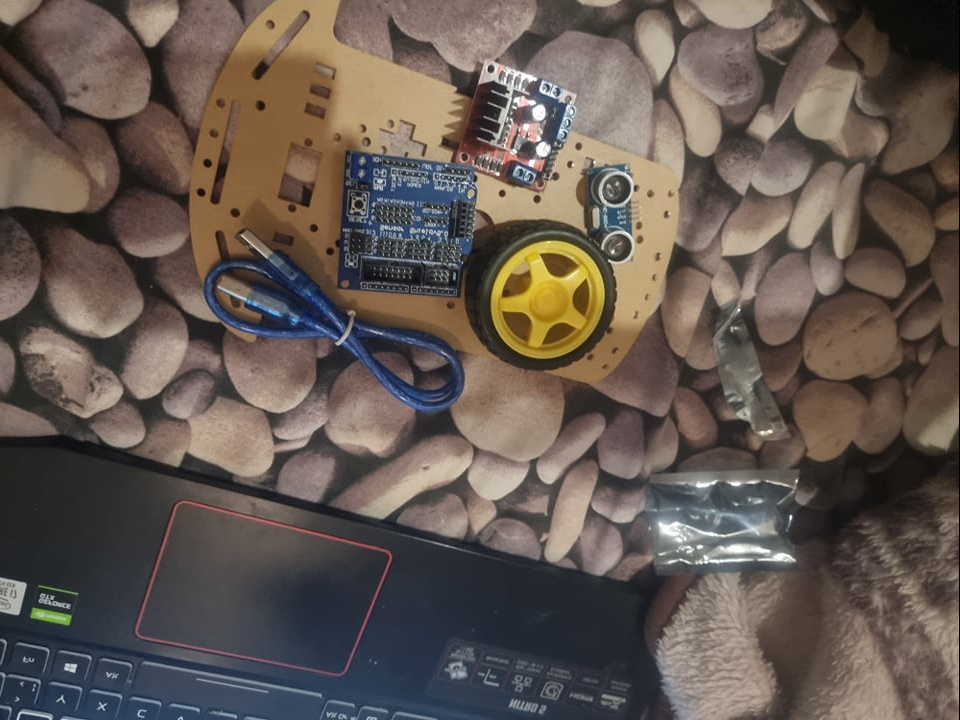5V EXPANSION: (331, 150, 481, 298)
MOTOR: (454, 56, 584, 192)
SENSOR: (585, 159, 640, 268)
